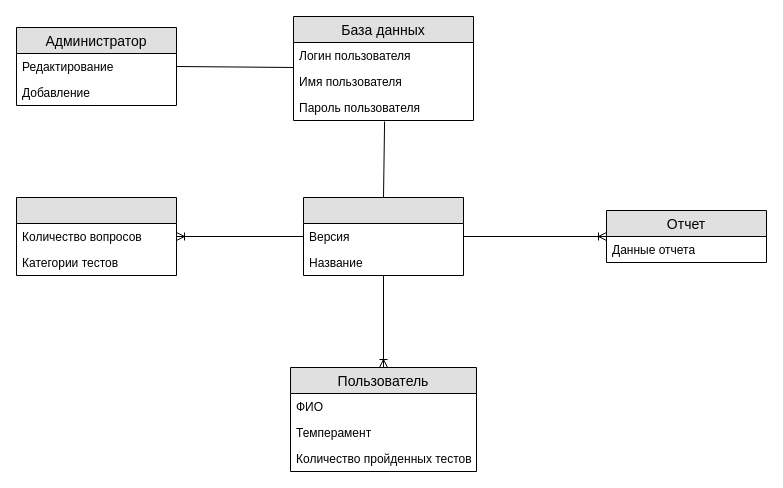
Some shapes in this 783 by 488 pixel diagram are drawn without their labels. Each missing label, with the box of its shape:
Приложение: (302, 196, 464, 276)
Тесты: (16, 196, 176, 276)
